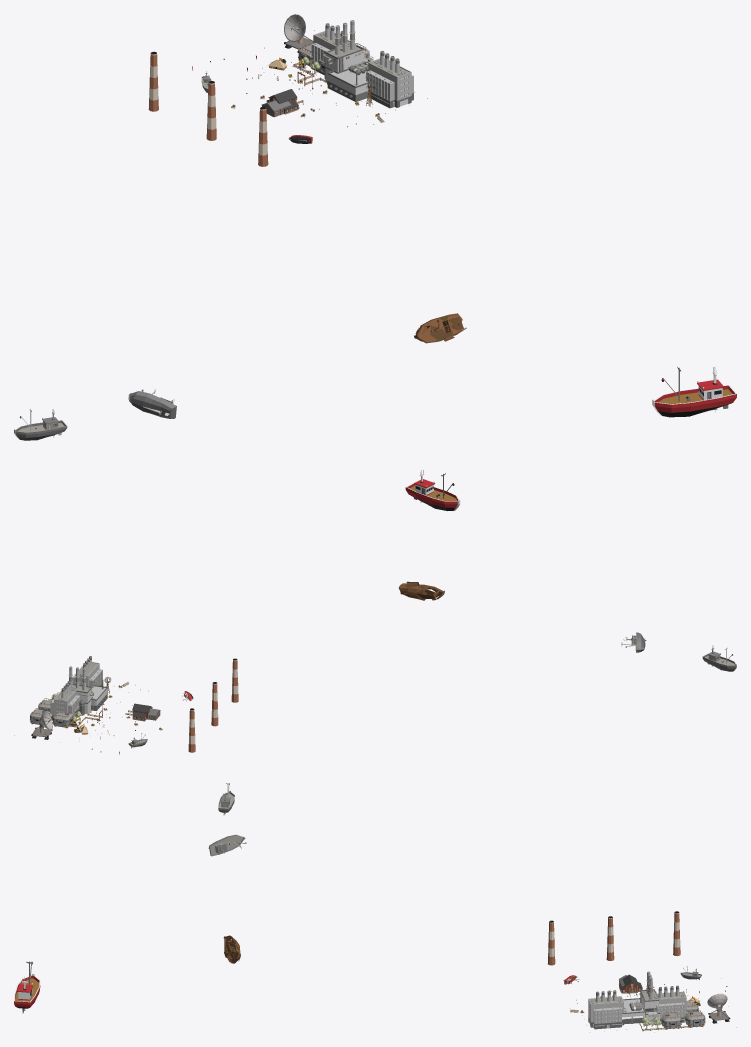
The model's file is Airports_1.glb.
3 views of the same model, one above another, from view 1: azimuth 30°, elevation 25°; view 2: azimuth 150°, elevation 25°; view 3: azimuth 270°, elevation 25° (orthographic). The views are drawn at different scales.
Visible parts, largest first — view 1: A_Fishing__0, A_AdvancedFactory__2, A_AdvancedFactory__0, A_AdvancedResearch__0, A_Fishing__7, A_GlassFactory__5, A_GlassFactory__1, A_Fishing__9; view 2: A_Fishing__0, A_AdvancedFactory__2, A_AdvancedResearch__0, A_AdvancedFactory__0; view 3: A_AdvancedFactory__2, A_Fishing__0, A_AdvancedResearch__0, A_AdvancedFactory__0, A_Fishing__6, A_AdvancedFactory__3, A_Fishing__7.
Boxes of the visible parts, x1=… form: A_Fishing__0: x1=288, y1=135, x2=736, y2=417; A_AdvancedFactory__2: x1=311, y1=24, x2=413, y2=101; A_AdvancedFactory__0: x1=148, y1=51, x2=268, y2=166; A_AdvancedResearch__0: x1=284, y1=14, x2=369, y2=73; A_Fishing__7: x1=15, y1=75, x2=211, y2=437; A_GlassFactory__5: x1=330, y1=20, x2=367, y2=86; A_GlassFactory__1: x1=325, y1=50, x2=369, y2=94; A_Fishing__9: x1=18, y1=76, x2=209, y2=440; A_Fishing__0: x1=182, y1=469, x2=460, y2=700; A_AdvancedFactory__2: x1=50, y1=657, x2=102, y2=716; A_AdvancedResearch__0: x1=30, y1=698, x2=79, y2=739; A_AdvancedFactory__0: x1=188, y1=658, x2=238, y2=752; A_AdvancedFactory__2: x1=588, y1=986, x2=686, y2=1023; A_Fishing__0: x1=14, y1=935, x2=579, y2=1013; A_AdvancedResearch__0: x1=661, y1=993, x2=730, y2=1029; A_AdvancedFactory__0: x1=548, y1=911, x2=680, y2=965; A_Fishing__6: x1=210, y1=790, x2=701, y2=979; A_AdvancedFactory__3: x1=589, y1=985, x2=685, y2=1028; A_Fishing__7: x1=209, y1=783, x2=701, y2=978.
Bounding box in the file's own units: 1236 × 128 × 1581.
43 materials, 17 textured.
